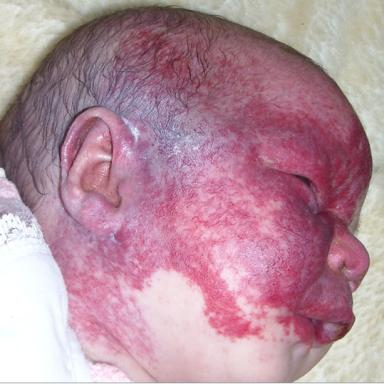Hemangiome: (33, 68, 371, 343)
